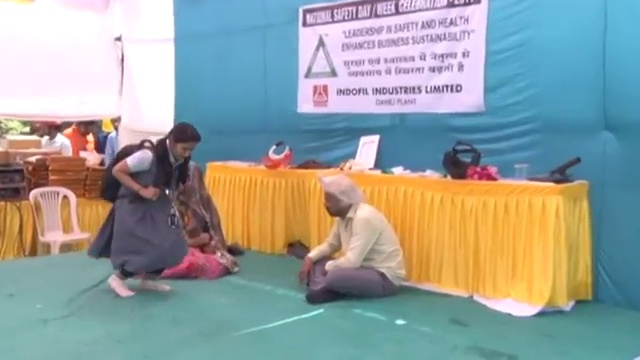helmet_off: (320, 176, 353, 219), (176, 157, 205, 199), (169, 125, 198, 160)
person: (103, 125, 199, 296), (302, 175, 405, 302), (172, 155, 235, 281), (61, 118, 97, 158), (38, 119, 72, 157), (105, 116, 122, 164)
